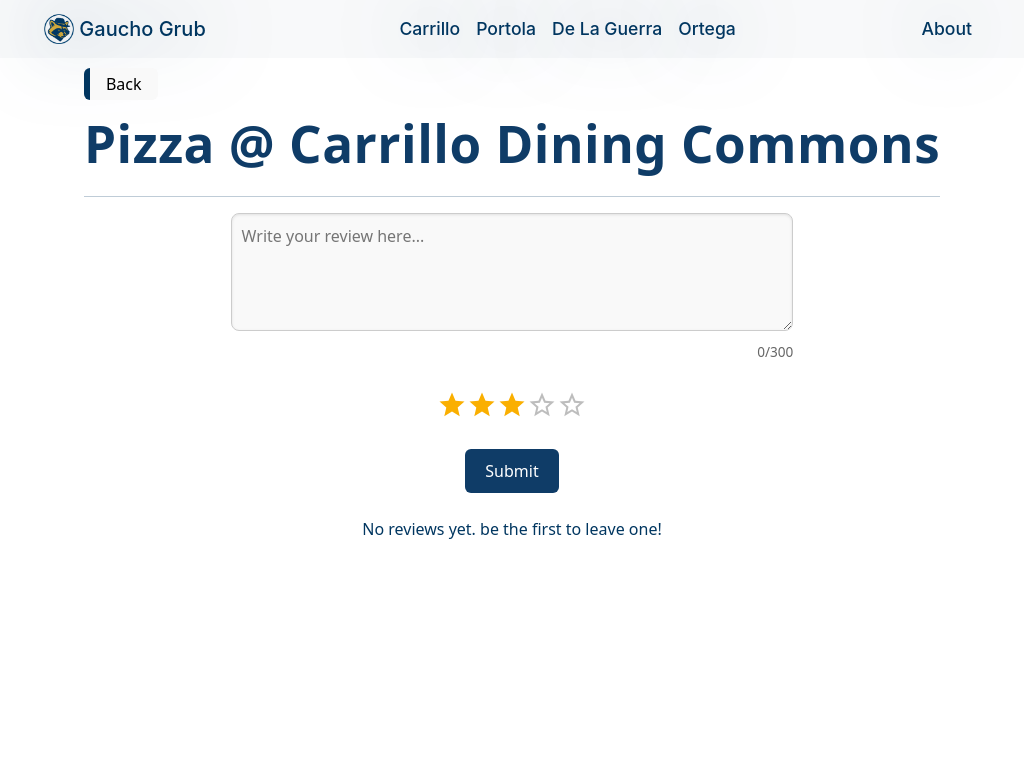
FoodReview › keeps the form available when the API rejects a submission
The image size is (1024, 768).
Type "Good" into the text box with placeholder "Write your review here..." at [512, 272], box [231,213,793,331]
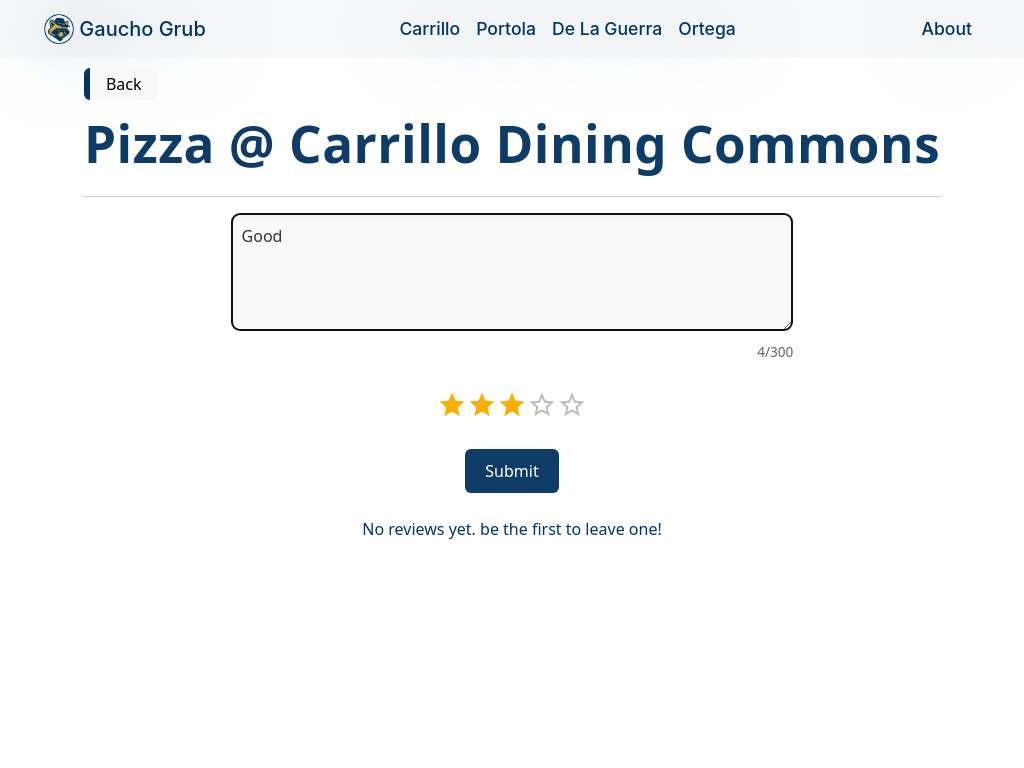
Click the button "Submit" at [512, 471], box [465,449,559,493]
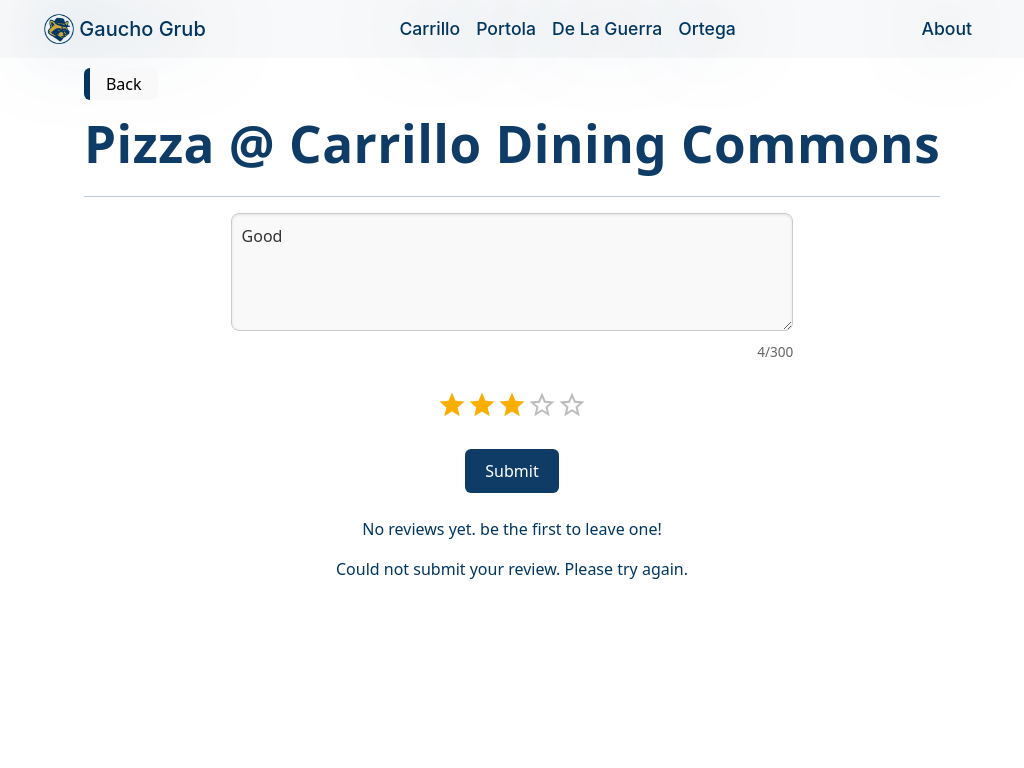
Expected: the message shows "Could not submit your review", [336,558,688,580]
